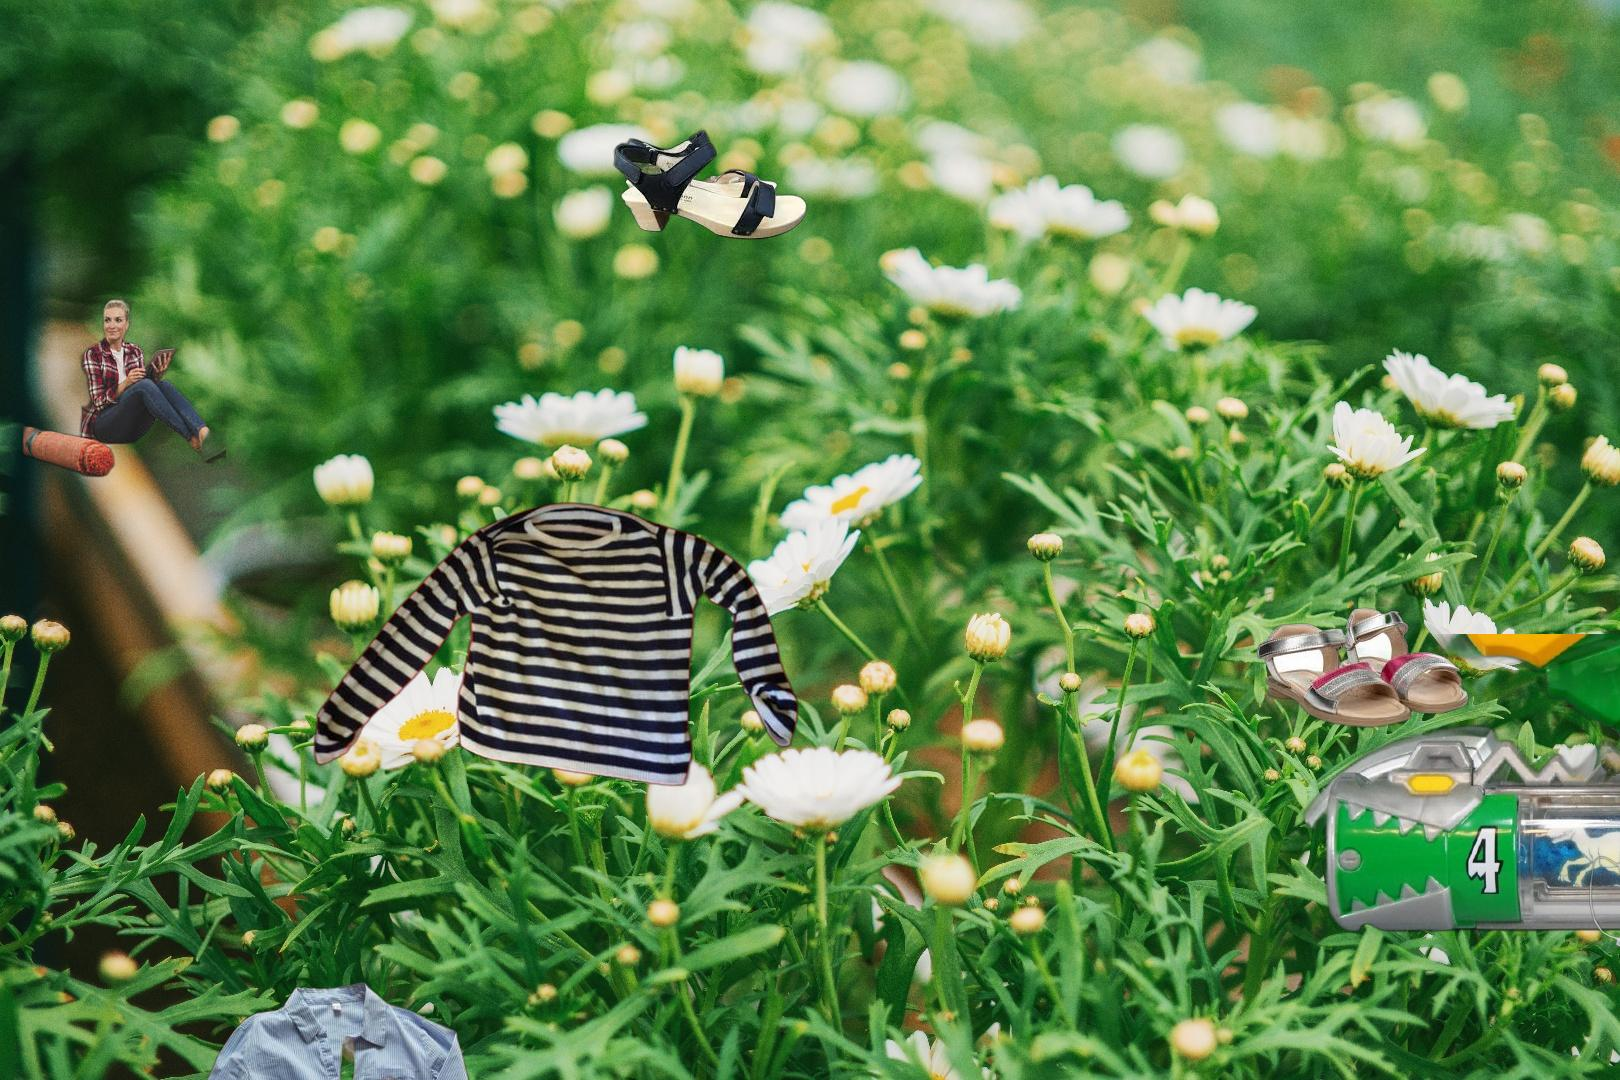battery: (1298, 634, 1620, 937)
clothes: (309, 499, 802, 790), (170, 978, 481, 1080)
glass: (34, 824, 344, 1080)
shoes: (1254, 605, 1471, 730), (611, 127, 808, 242)
trash: (1587, 826, 1620, 997)
trashbox-cardboard: (19, 292, 225, 480)
